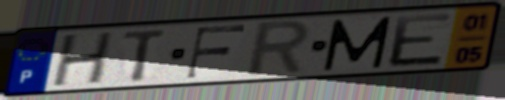E: (386, 11, 455, 70)
F: (183, 23, 250, 81)
H: (48, 30, 118, 90)
M: (320, 15, 396, 74)
R: (241, 18, 314, 80)
T: (120, 27, 171, 85)
